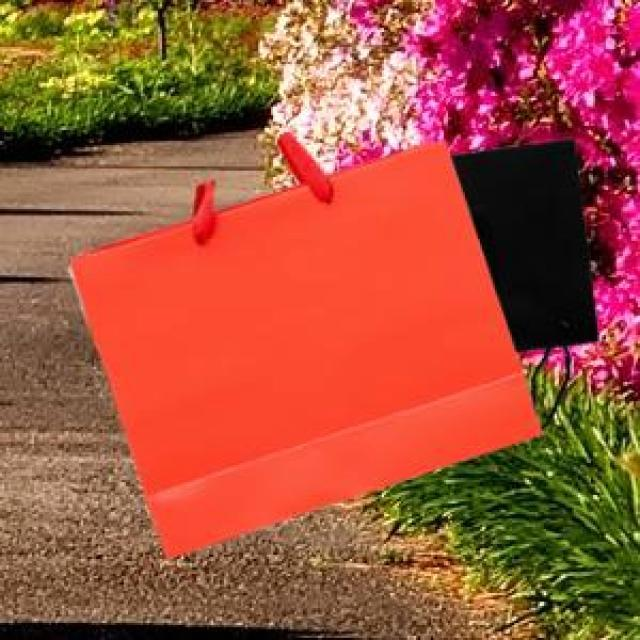Paper_Bag: (65, 129, 539, 556), (447, 136, 594, 426)
